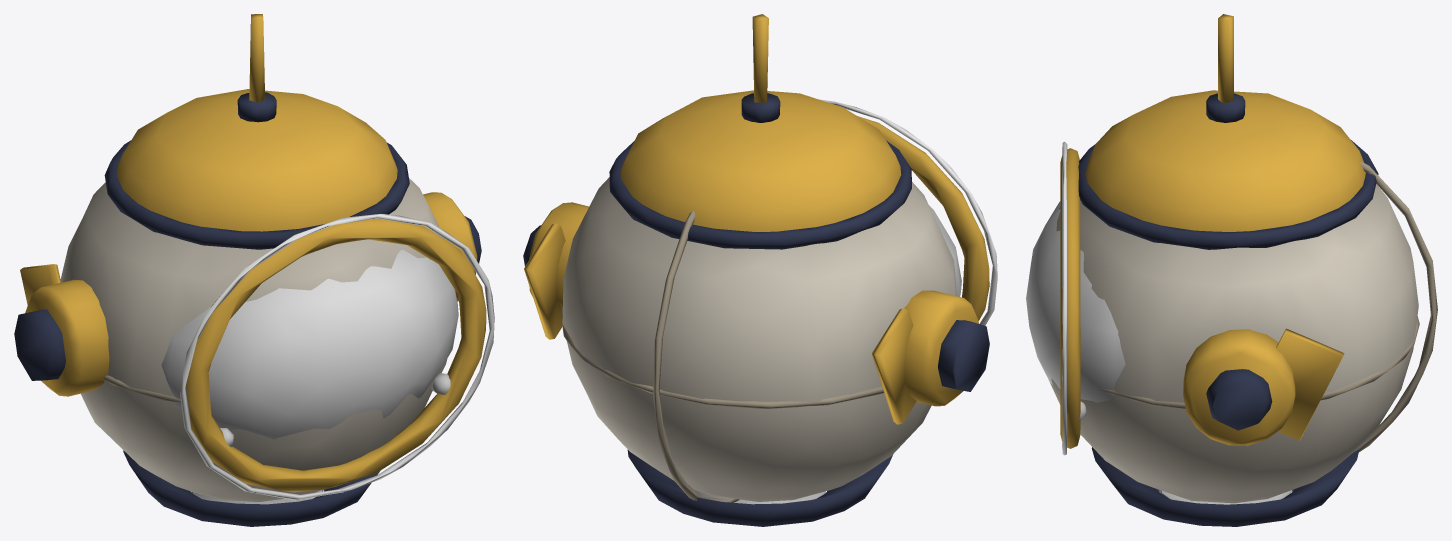
File: lumi_low.glb
3 views of the same model, side by side, from view 1: azimuth 30°, elevation 25°; view 2: azimuth 150°, elevation 25°; view 3: azimuth 270°, elevation 25° (orthographic).
Visible parts, largest first — view 1: lumi; view 2: lumi; view 3: lumi.
Part boxes in pixels (x1,y1,x2,y2): lumi: (14, 14, 494, 526); lumi: (523, 14, 997, 526); lumi: (1026, 14, 1437, 526).
Bounding box in the file's own units: 0.7501 × 0.785 × 0.6148.
